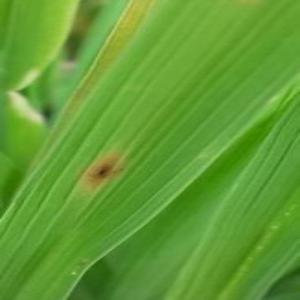Brown_Spot: (82, 151, 124, 187)
